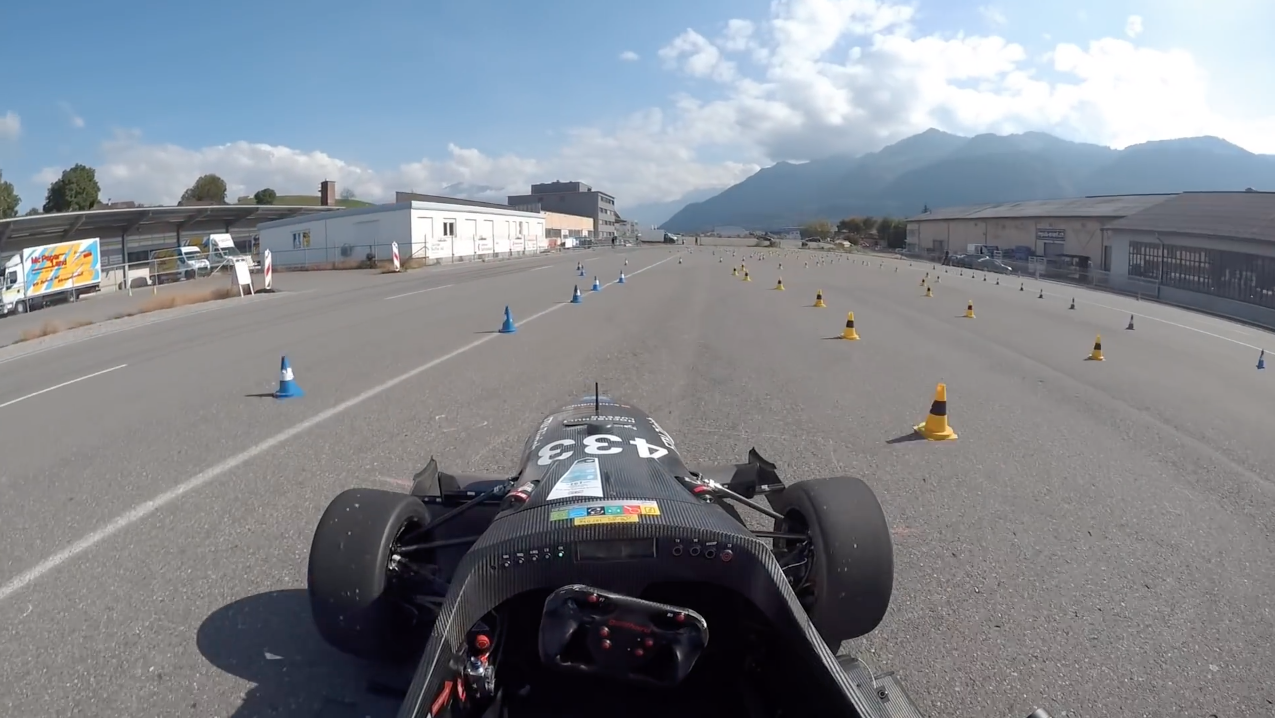lcone: (268, 351, 307, 401), (493, 302, 520, 335)
rcone: (907, 379, 962, 447), (837, 309, 862, 341)
